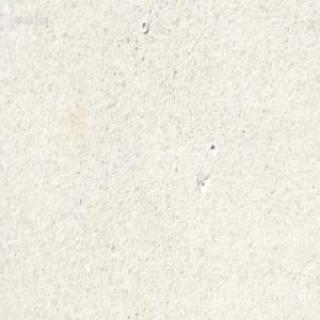Washertrack_idkeyframe: (140, 18, 148, 34)
